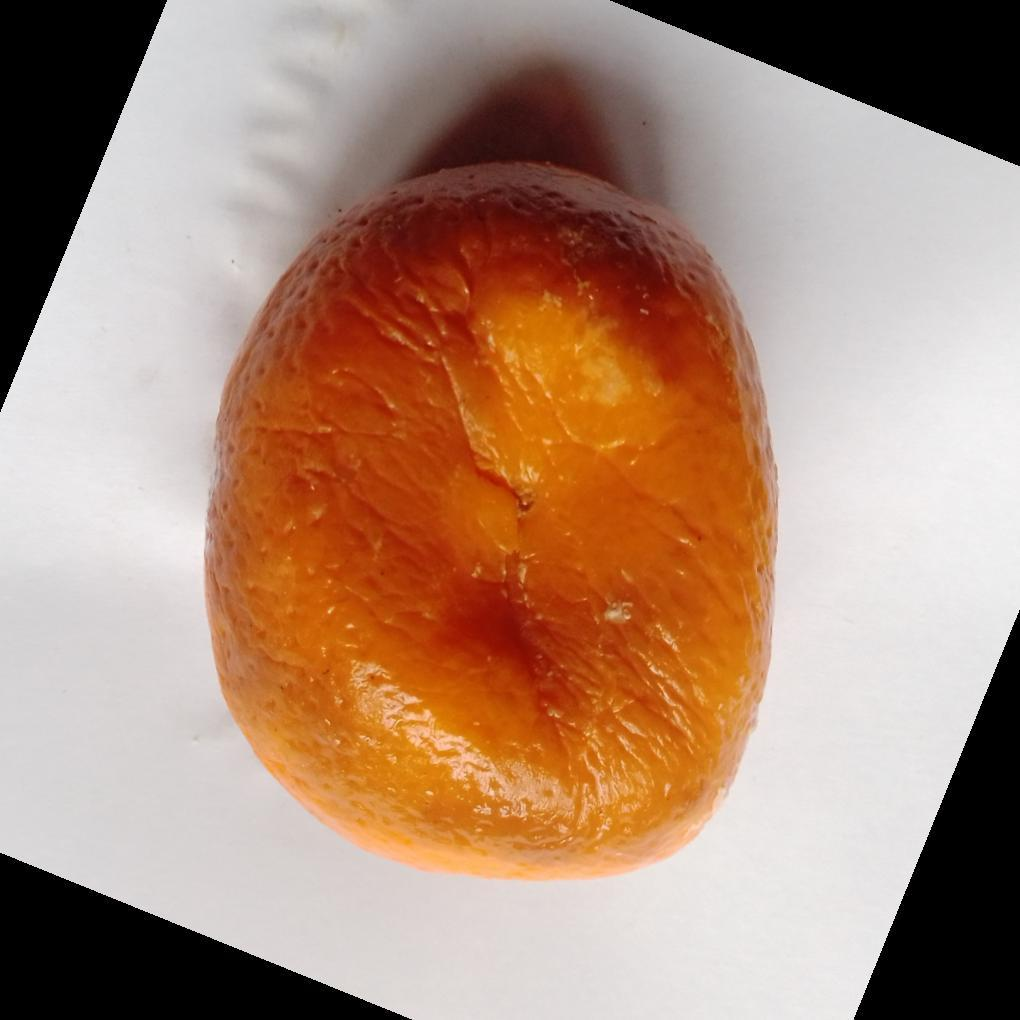FreshOrange: (202, 161, 780, 888)
